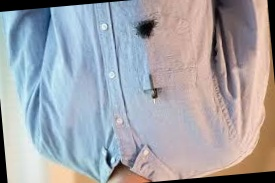ink: (137, 20, 157, 39)
